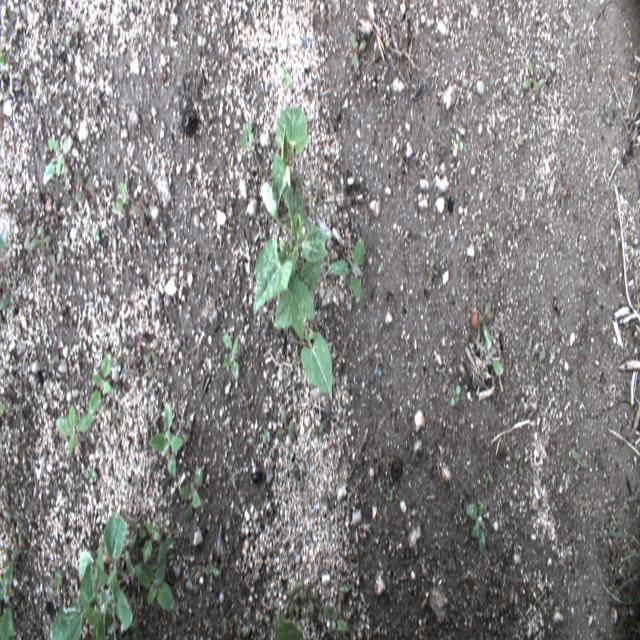crop: (253, 183, 330, 315), (274, 252, 332, 402), (261, 103, 310, 226)
weed: (47, 512, 139, 638), (134, 538, 178, 612), (150, 400, 184, 479), (329, 229, 365, 300), (55, 400, 90, 462), (40, 133, 76, 192), (480, 304, 504, 381), (463, 500, 493, 560), (89, 351, 111, 424), (179, 468, 205, 524), (283, 581, 319, 621), (72, 154, 98, 206), (139, 338, 165, 389), (3, 505, 25, 557), (0, 558, 14, 638), (348, 27, 368, 82), (28, 222, 53, 266), (323, 603, 351, 637), (520, 61, 545, 99), (112, 175, 130, 227), (310, 406, 334, 444), (44, 243, 64, 288), (271, 613, 308, 637), (224, 332, 242, 380), (278, 403, 296, 448), (64, 16, 83, 54), (139, 522, 160, 556), (454, 122, 472, 160), (133, 194, 152, 229), (0, 276, 17, 312), (236, 124, 256, 153), (570, 441, 590, 469), (553, 182, 569, 216), (294, 461, 309, 496), (202, 555, 220, 584), (12, 378, 26, 414), (426, 254, 442, 283), (110, 402, 124, 434), (450, 385, 464, 415), (314, 178, 329, 206), (537, 352, 551, 378), (89, 220, 101, 250), (0, 48, 10, 82), (82, 461, 98, 482), (485, 208, 494, 240), (0, 232, 10, 260), (260, 426, 272, 446), (280, 68, 290, 89)
